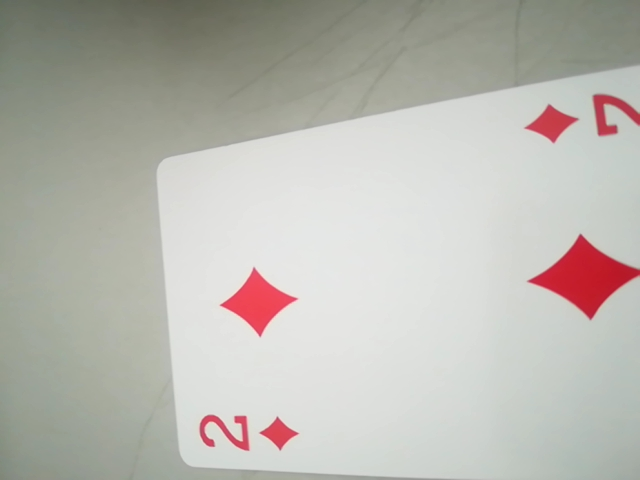fk 2: (514, 84, 640, 157), (190, 401, 311, 465)
